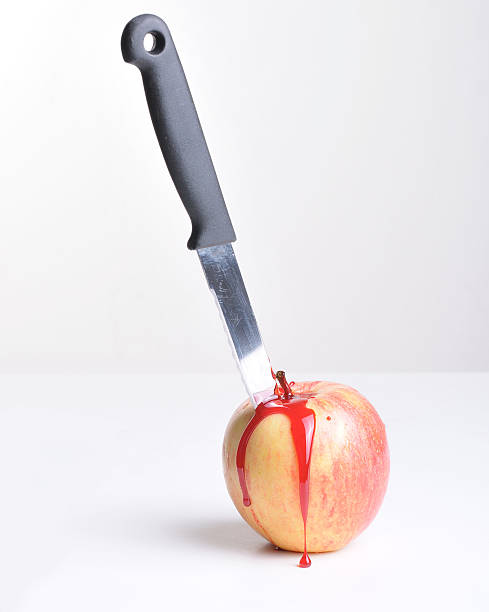blood: (232, 397, 319, 570)
knife: (117, 11, 286, 414)
